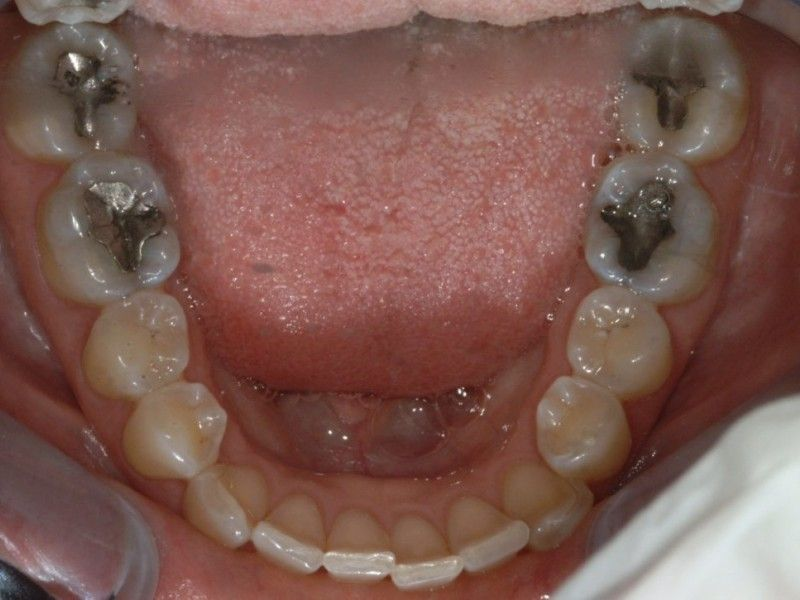LL1BC_healthy: (531, 376, 635, 488)
LL1M_decay: (582, 156, 718, 302)
LL2BC_healthy: (565, 284, 675, 403)
LL2M_decay: (620, 15, 746, 153)
LLCI_healthy: (392, 514, 459, 594)
LLC_healthy: (500, 464, 596, 552)
LLLI_healthy: (451, 495, 527, 571)
LR1BC_healthy: (123, 382, 227, 479)
LR1M_decay: (35, 156, 187, 306)
LR2BC_healthy: (77, 290, 193, 400)
LR2M_decay: (2, 29, 137, 156)
LR3M_decay: (9, 1, 135, 26)
LRCI_healthy: (327, 508, 390, 578)
LRC_healthy: (181, 463, 274, 545)
LRLI_healthy: (252, 492, 329, 573)
